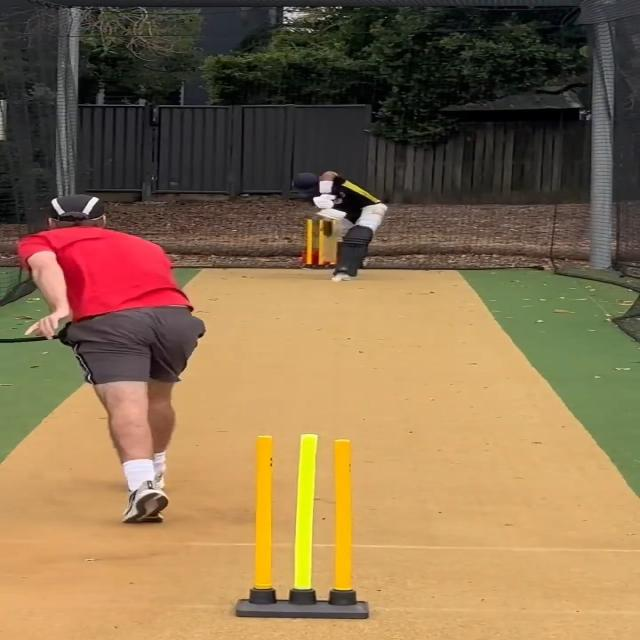stump: (234, 431, 369, 620)
